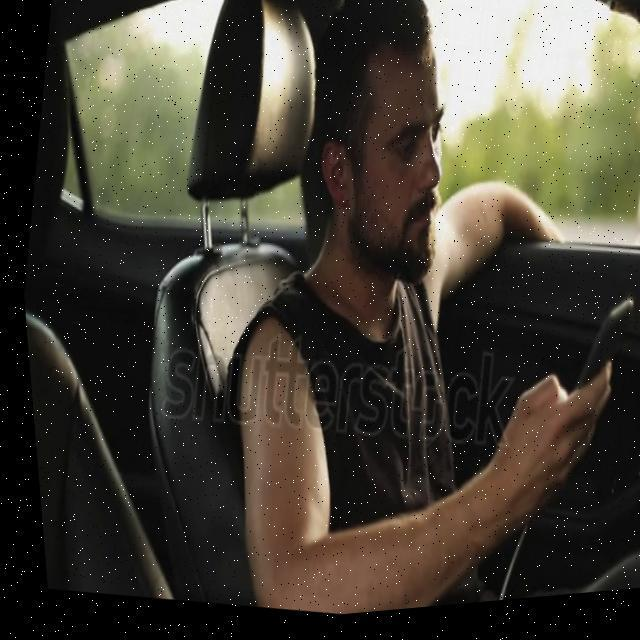PhoneCall: (554, 296, 634, 424)
